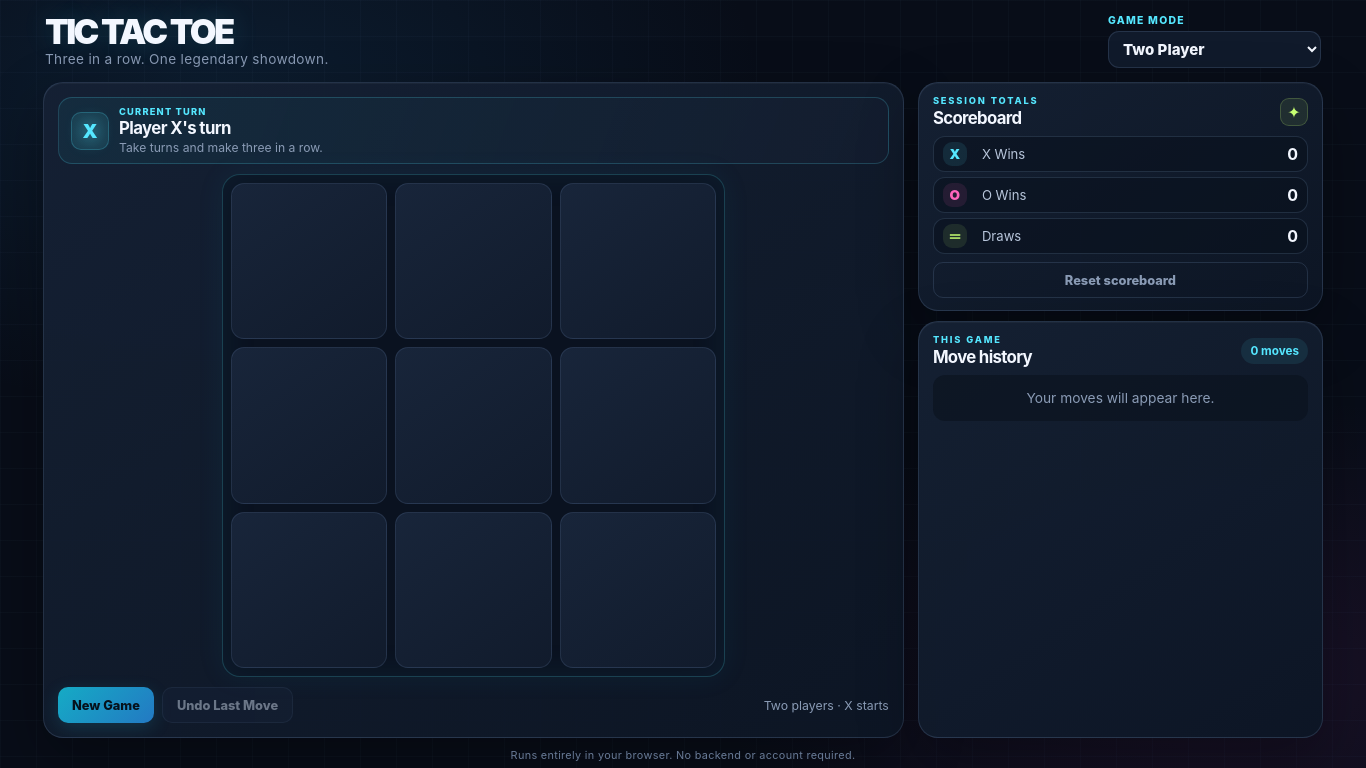
it: undo removes one two-player move and restores that player turn
Click the button named "row 1, column 1, empty" at [309, 261], box [231,183,387,339]
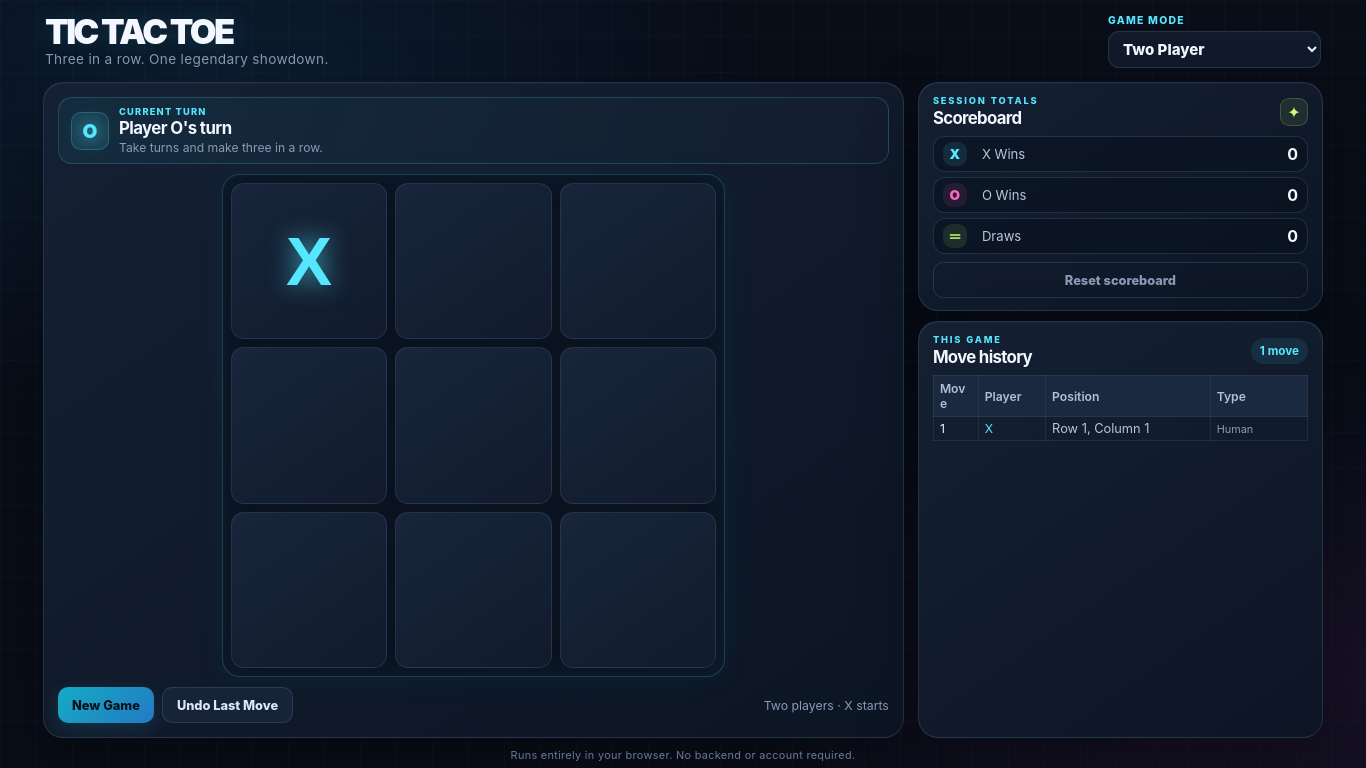
Click the button named "row 2, column 2, empty" at [473, 425], box [395,347,552,504]
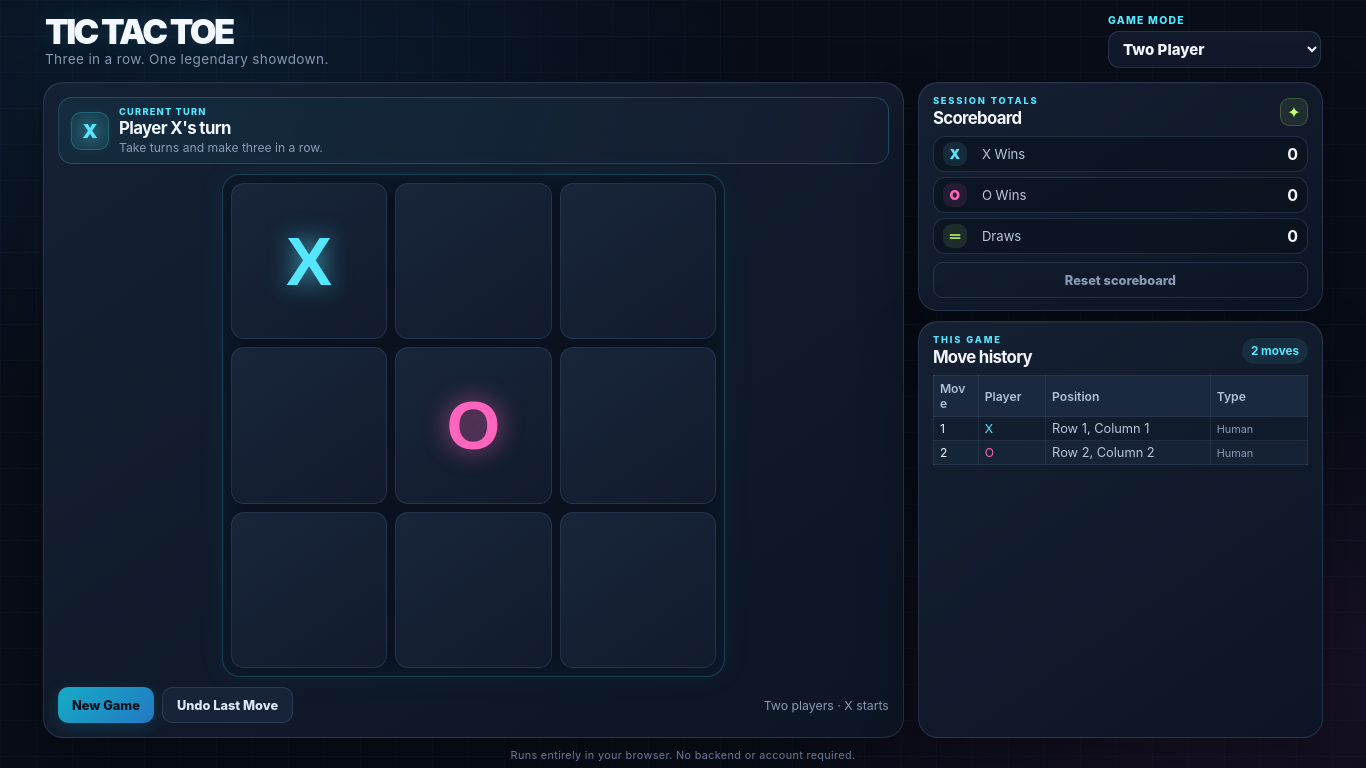
Click the button "Undo Last Move" at [228, 705], box [162,687,293,723]
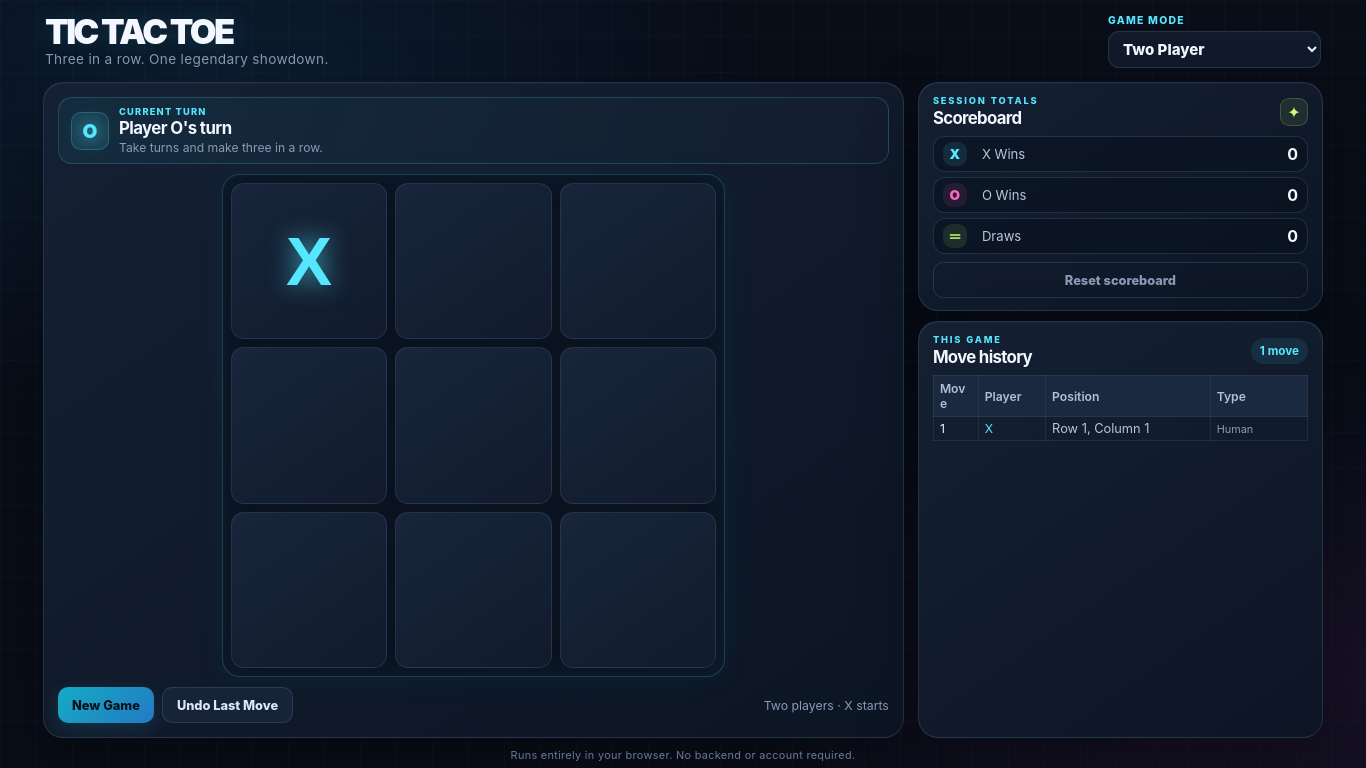
Expected: the heading "Player O's turn" is shown, [119,118,232,138]
Expected: the button named "row 2, column 2, empty" is enabled, [395,347,552,504]
Expected: the text "1 move" is shown, [1251,338,1308,364]
